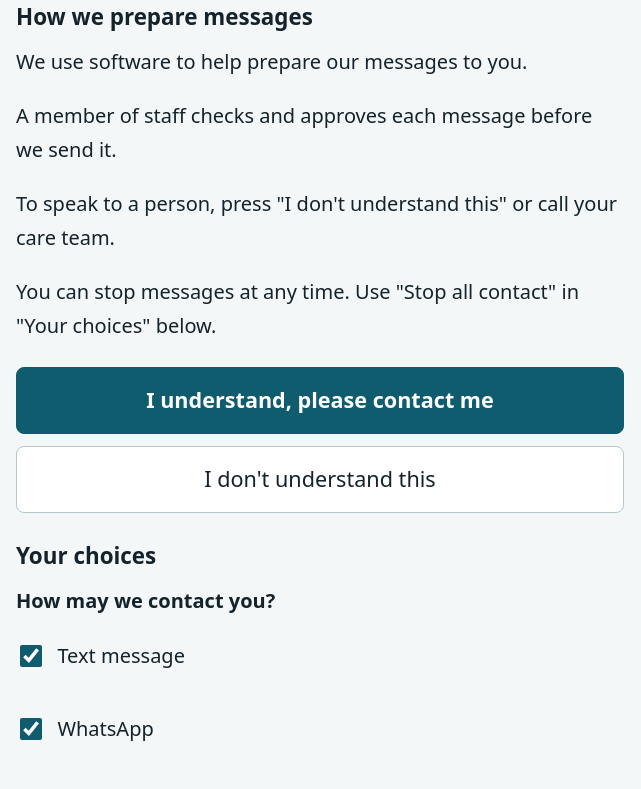
Patient page › acknowledge posts patient_acknowledge and moves the case on
(page scrolled)
Click the button "I understand, please contact me". click: (320, 400)
box: x1=16 y1=366 x2=624 y2=434
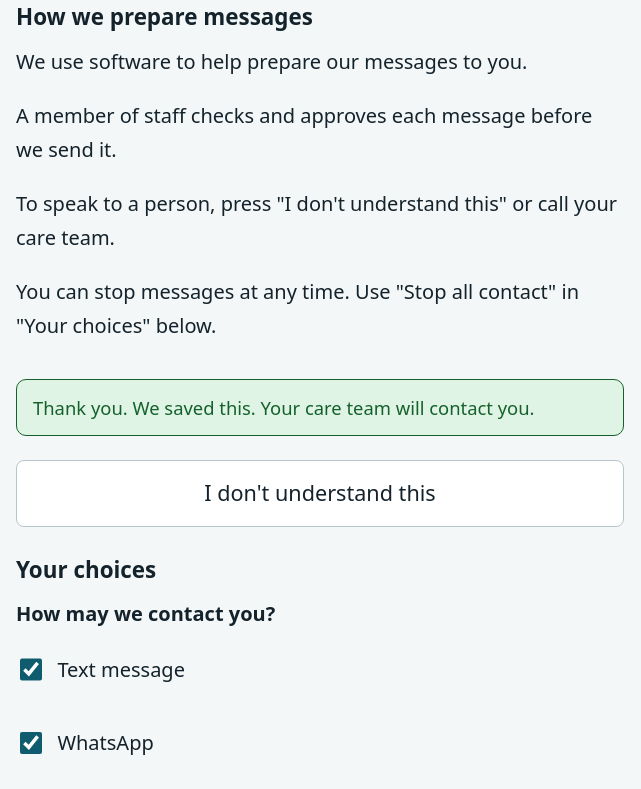
Check: the message "Thank you. We saved this. Your care team will contact you." is shown, box x1=16 y1=378 x2=624 y2=436
